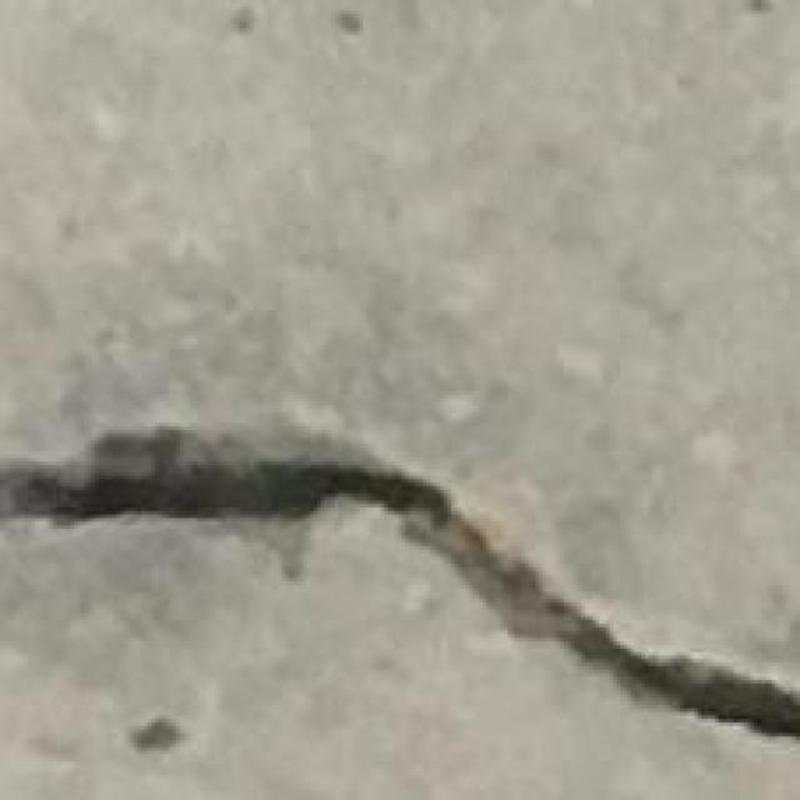pothole: (0, 454, 799, 739)
